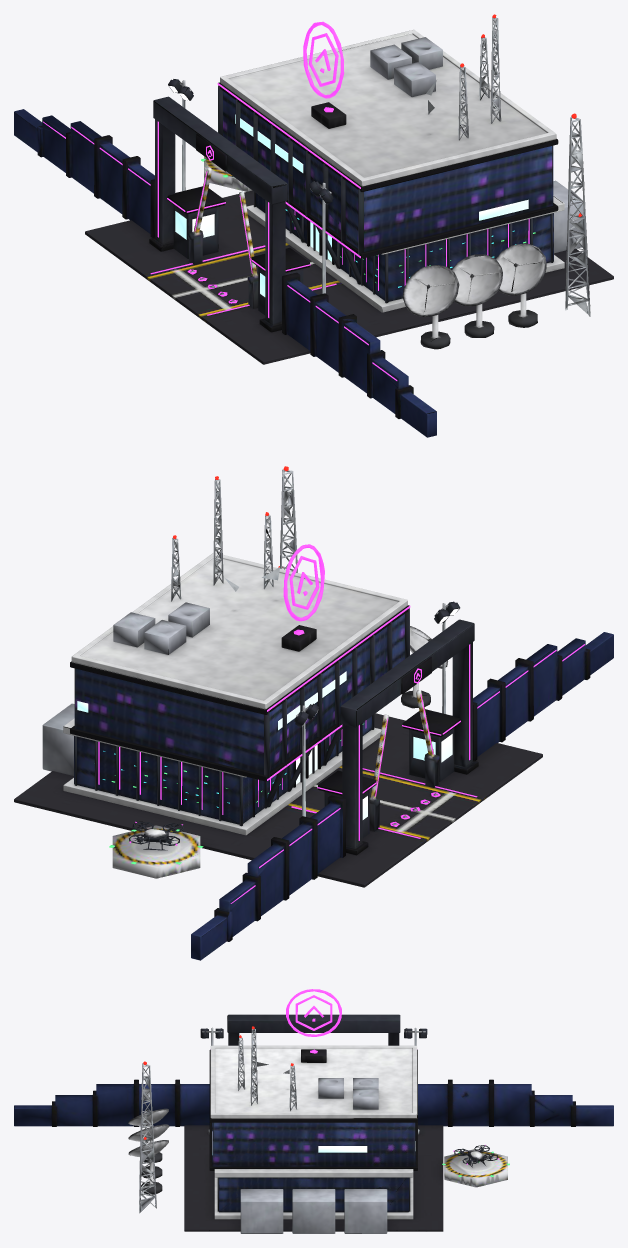
Rendered from digital_city.glb.
The picture shows the model from 3 angles, top to bottom: view 1: azimuth 30°, elevation 25°; view 2: azimuth 150°, elevation 25°; view 3: azimuth 270°, elevation 25°; orthographic projection. The views are drawn at different scales.
Parts seen in each view (by area): view 1: City; view 2: City; view 3: City.
Part boxes in pixels (x1,y1,x2,y2): City: [14, 14, 613, 437]; City: [14, 466, 613, 960]; City: [14, 989, 613, 1233].
Bounding box in the file's own units: 6.99 × 4.61 × 13.87.
7 materials, 1 textured.
